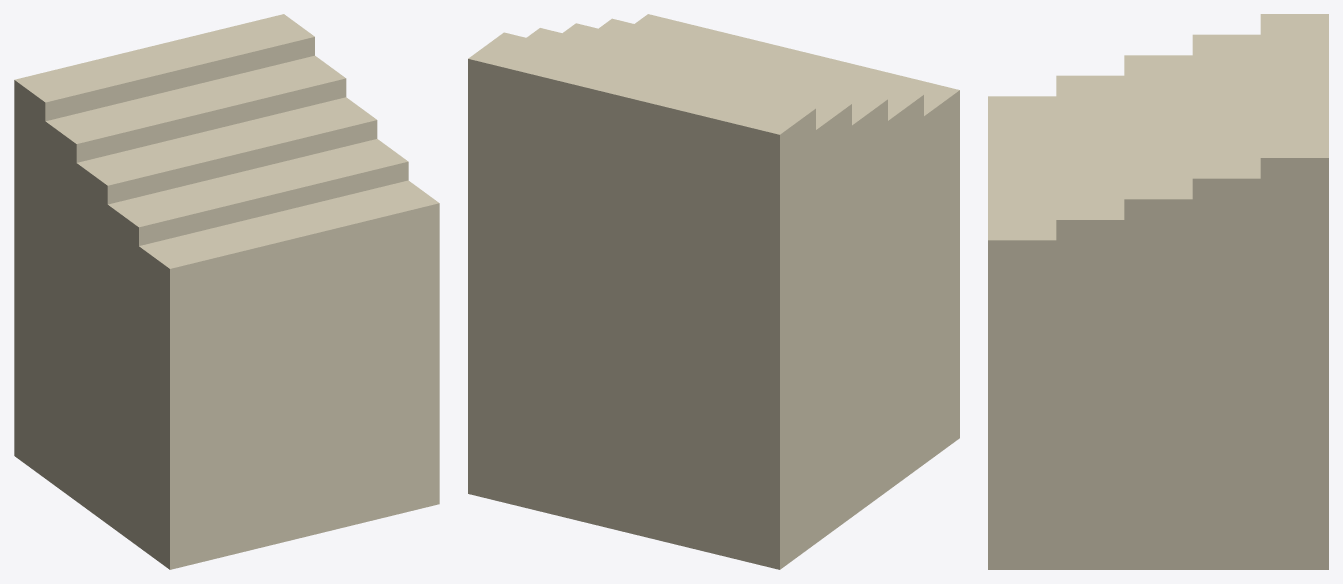
File: roman_stair_straight.fbx
3 renders of one model, left to right at view 1: azimuth 30°, elevation 25°; view 2: azimuth 150°, elevation 25°; view 3: azimuth 270°, elevation 25°, orthographic. The views are drawn at different scales.
Visible parts, largest first — view 1: Cube.008; view 2: Cube.008; view 3: Cube.008.
Part boxes in pixels (<box>): Cube.008: <box>14,14,439,569</box>; Cube.008: <box>468,14,959,569</box>; Cube.008: <box>988,14,1328,569</box>.
Bounding box in the file's own units: 3 × 4 × 3.
